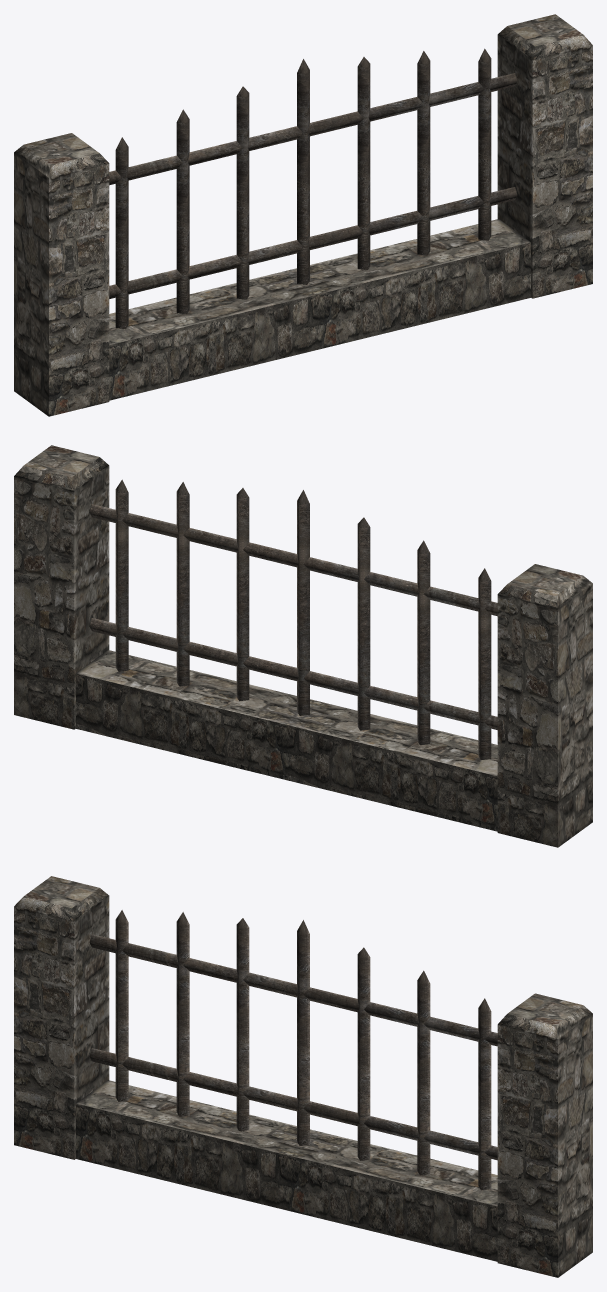
Rendered from IronFence.dae.
The picture shows the model from 3 angles, top to bottom: view 1: azimuth 30°, elevation 25°; view 2: azimuth 150°, elevation 25°; view 3: azimuth 330°, elevation 25°; orthographic projection.
Visible parts, largest first — view 1: IronFence2; view 2: IronFence2; view 3: IronFence2.
Part boxes in pixels (left/top/right/bottom): IronFence2: left=14, top=14, right=592, bottom=416; IronFence2: left=14, top=445, right=592, bottom=847; IronFence2: left=14, top=876, right=592, bottom=1277.
Bounding box in the file's own units: 4 × 1.96 × 0.4444.
Materials: 1 (1 with a texture image).
